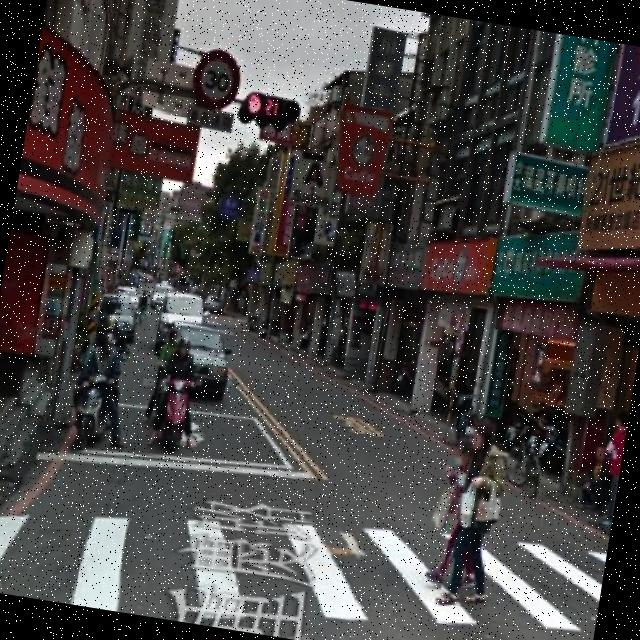Ograniczenie predkosci do 30: (188, 46, 246, 116)
